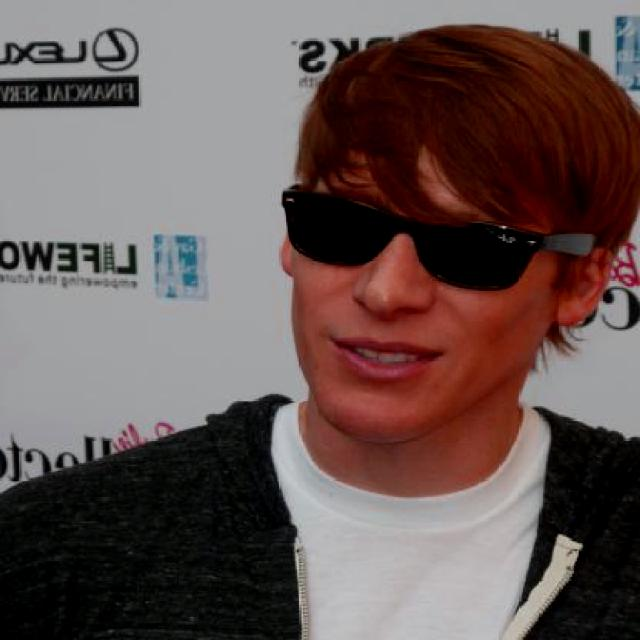face_nomask: (302, 204, 529, 376)
glasses: (278, 188, 598, 292)
head_nohelmet: (289, 32, 605, 200)
